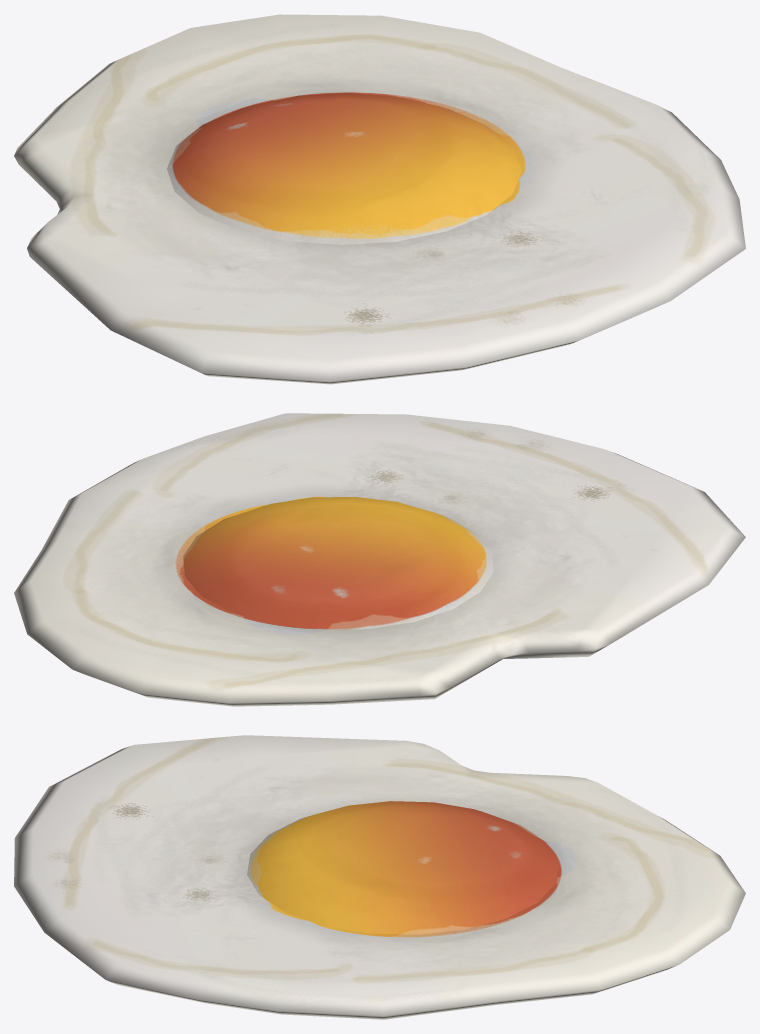
Rendered from mezzogiorno-uovo.glb.
3 views of the same model, one above another, from view 1: azimuth 30°, elevation 25°; view 2: azimuth 150°, elevation 25°; view 3: azimuth 270°, elevation 25° (orthographic). The views are drawn at different scales.
Visible parts, largest first — view 1: OVO_FRITO_LP_Default_0; view 2: OVO_FRITO_LP_Default_0; view 3: OVO_FRITO_LP_Default_0.
Part boxes in pixels (x1,y1,x2,y2): OVO_FRITO_LP_Default_0: (14,14,745,384); OVO_FRITO_LP_Default_0: (14,413,745,706); OVO_FRITO_LP_Default_0: (14,735,745,1019).
Bounding box in the file's own units: 0.115 × 0.0099 × 0.1283.
1 material, 1 textured.
